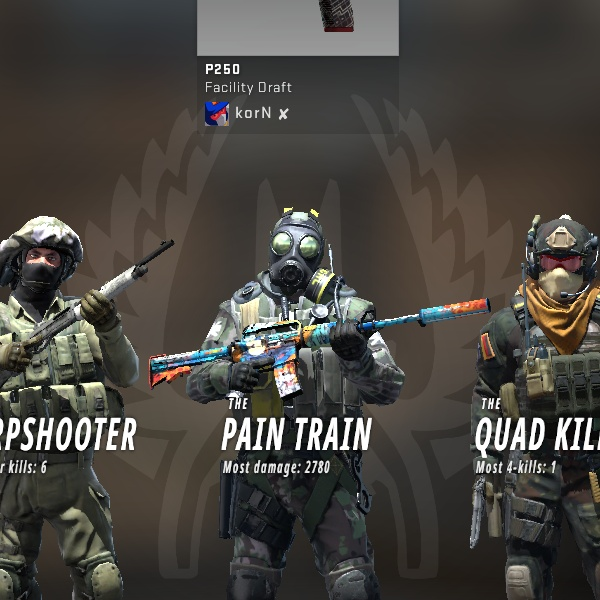ct_body: (178, 215, 386, 590), (428, 176, 586, 600), (1, 199, 161, 600)
ct_head: (0, 205, 96, 310), (512, 199, 598, 314)
